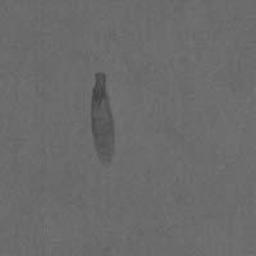Oil spot: (91, 72, 115, 162)
